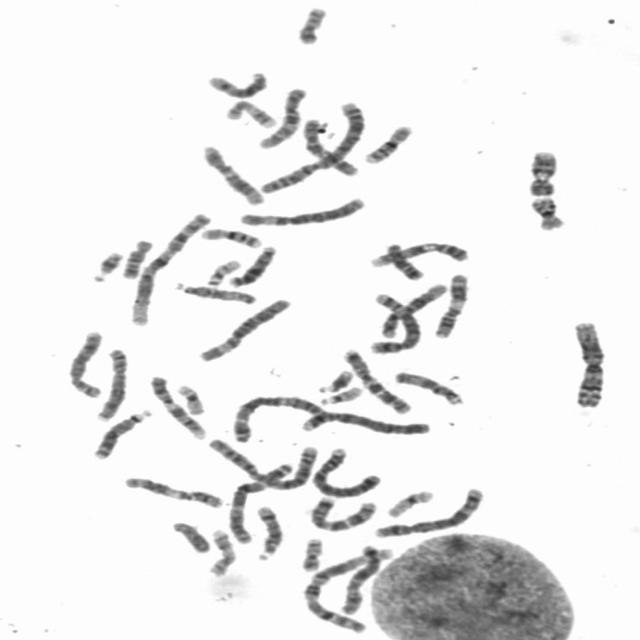A1: (123, 206, 215, 328), (294, 541, 395, 634)
A2: (254, 96, 368, 195), (202, 431, 321, 491)
A3: (221, 456, 297, 545), (226, 390, 334, 442)
B4: (305, 441, 385, 499), (292, 406, 432, 436)
B5: (367, 482, 488, 539), (366, 287, 424, 355)
C10: (295, 114, 362, 177), (251, 82, 309, 150)
C11: (118, 471, 228, 509), (428, 267, 472, 340)
C12: (195, 140, 268, 206), (373, 278, 450, 339)
C6: (192, 292, 294, 363), (232, 192, 368, 228)
C7: (336, 343, 414, 415), (303, 492, 380, 532)
C8: (61, 325, 107, 399), (89, 343, 131, 423)
C9: (143, 371, 209, 440), (362, 236, 472, 269)
D13: (86, 404, 154, 461), (221, 240, 278, 289)
D14: (201, 66, 271, 100), (248, 500, 286, 561)
D15: (388, 365, 467, 406), (167, 276, 259, 305)
E16: (357, 119, 416, 165), (195, 222, 265, 250)
E17: (218, 95, 280, 129), (202, 524, 238, 578)
E18: (380, 238, 428, 281), (116, 234, 156, 280)
F19: (380, 484, 438, 519), (170, 379, 207, 416)
F20: (291, 0, 331, 46), (295, 532, 327, 572)
G21: (84, 246, 126, 284), (311, 364, 357, 394)
G22: (200, 254, 244, 288), (314, 381, 366, 406)
X: (333, 540, 389, 616)
Y: (164, 516, 213, 554)
